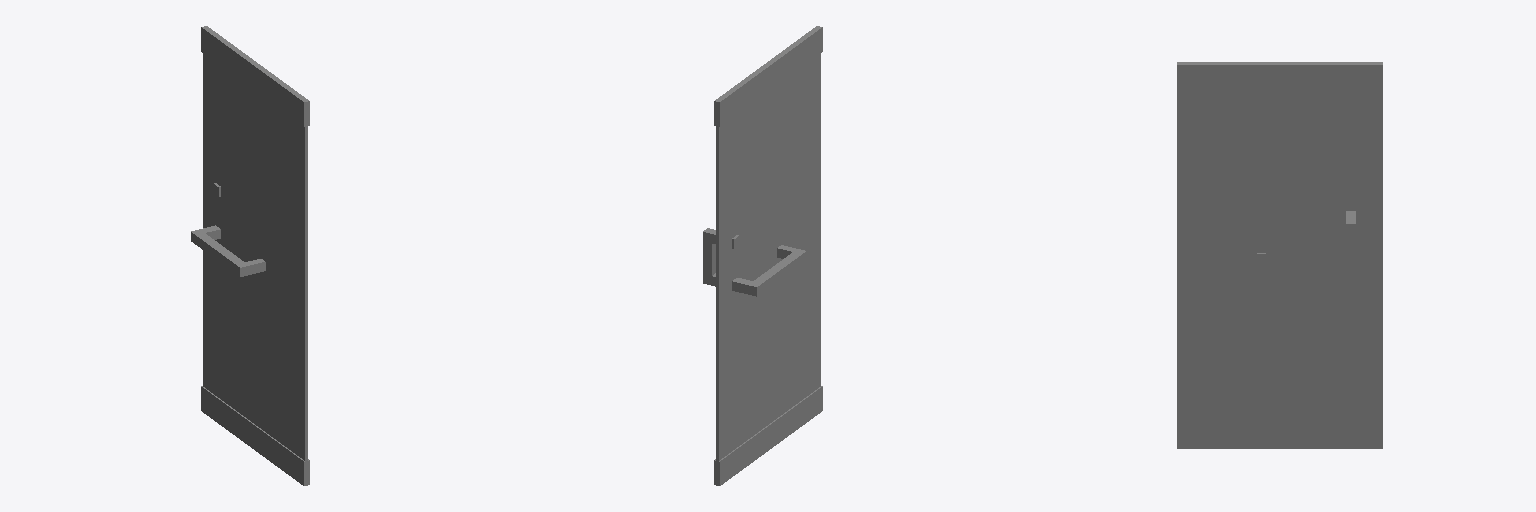
File: Multimedia_door.obj
3 views of the same model, side by side, from view 1: azimuth 30°, elevation 25°; view 2: azimuth 150°, elevation 25°; view 3: azimuth 270°, elevation 25° (orthographic).
Visible parts, largest first — view 1: ???????; view 2: ???????; view 3: ???????.
Part boxes in pixels (x1,y1,x2,y2): ???????: (191,26,309,485); ???????: (703,26,822,485); ???????: (1177,62,1382,448).
Bounding box in the file's own units: 0.365 × 2.46 × 1.19.